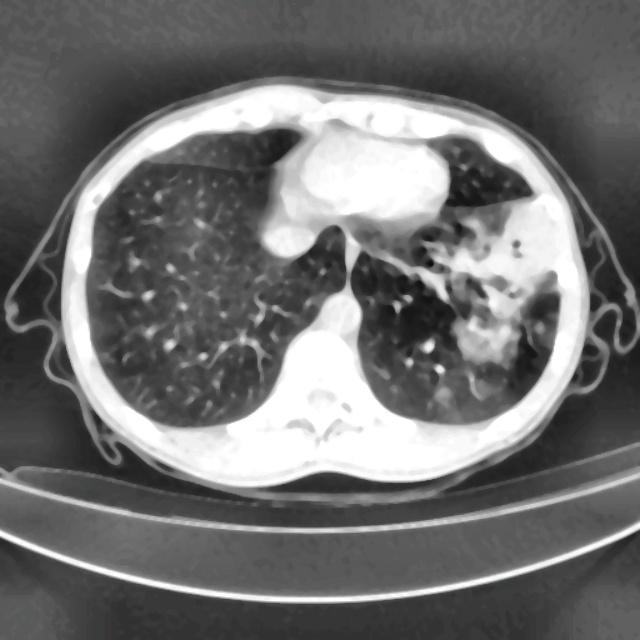covid: (4, 76, 634, 501)
